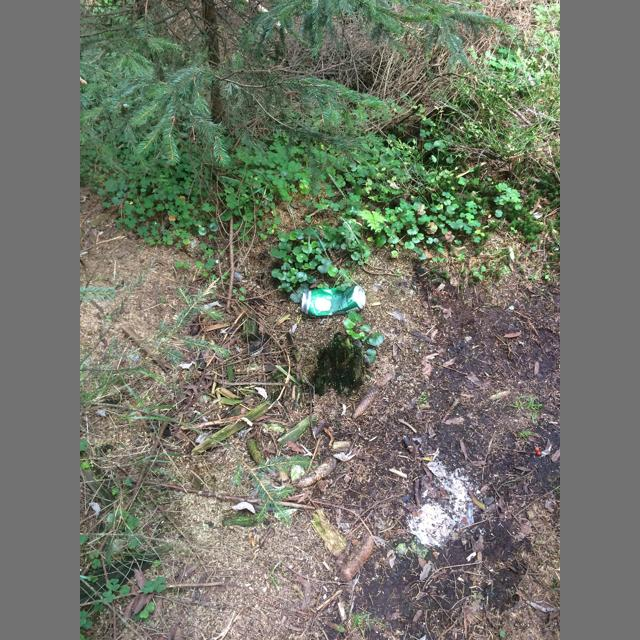litter: (301, 285, 366, 316)
